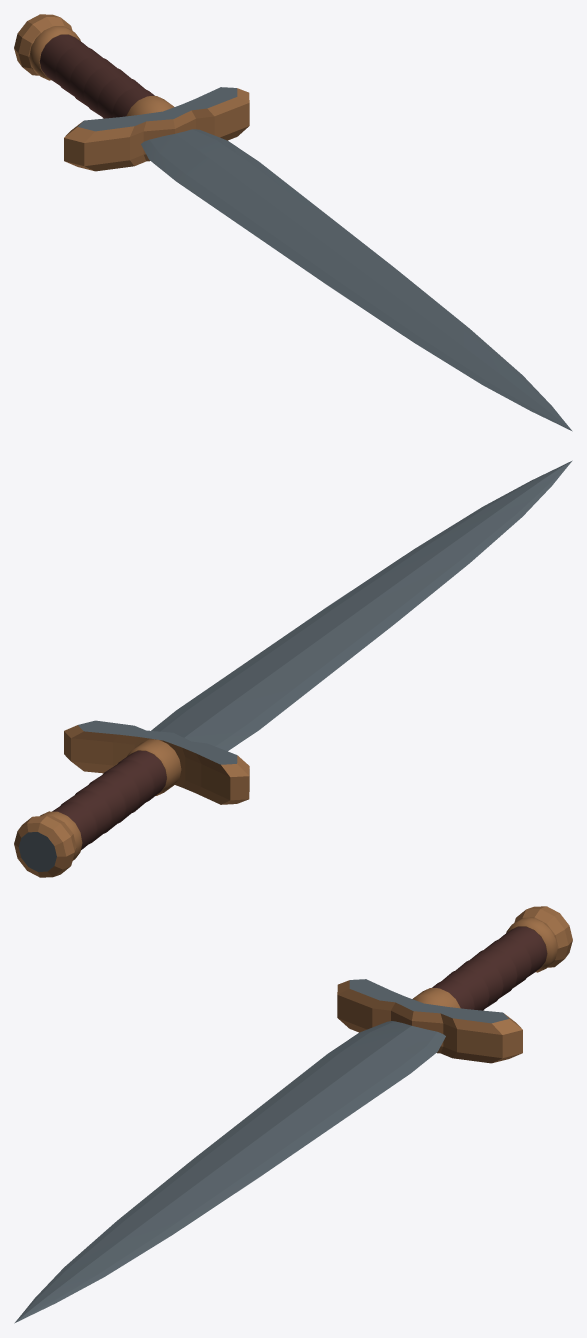
Rendered from explorer-sword-standard.glb.
3 renders of one model, top to bottom at view 1: azimuth 30°, elevation 25°; view 2: azimuth 150°, elevation 25°; view 3: azimuth 330°, elevation 25°, orthographic.
Parts seen in each view (by area): view 1: explorer_sword_grip_origin; view 2: explorer_sword_grip_origin; view 3: explorer_sword_grip_origin.
Boxes of the visible parts, box(x1,y1,x2,y2) form: explorer_sword_grip_origin: box(14, 14, 572, 431); explorer_sword_grip_origin: box(14, 460, 572, 877); explorer_sword_grip_origin: box(14, 906, 572, 1323).
Size of the model in its own units: 0.184 by 0.056 by 0.92.
